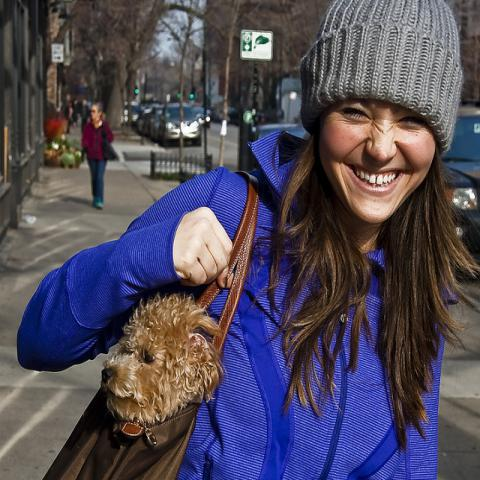car: (443, 104, 479, 258), (156, 103, 202, 148), (228, 107, 270, 126), (121, 102, 144, 126), (137, 109, 153, 137), (191, 106, 210, 128), (150, 105, 162, 139)
